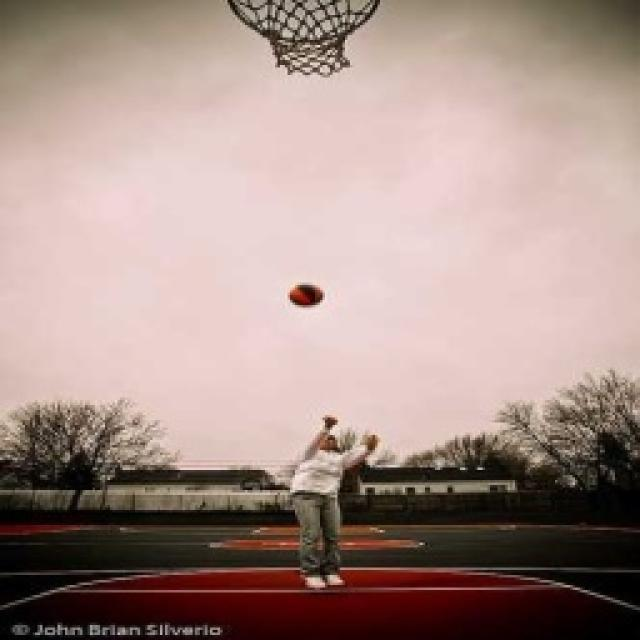rim: (286, 270, 326, 314)
